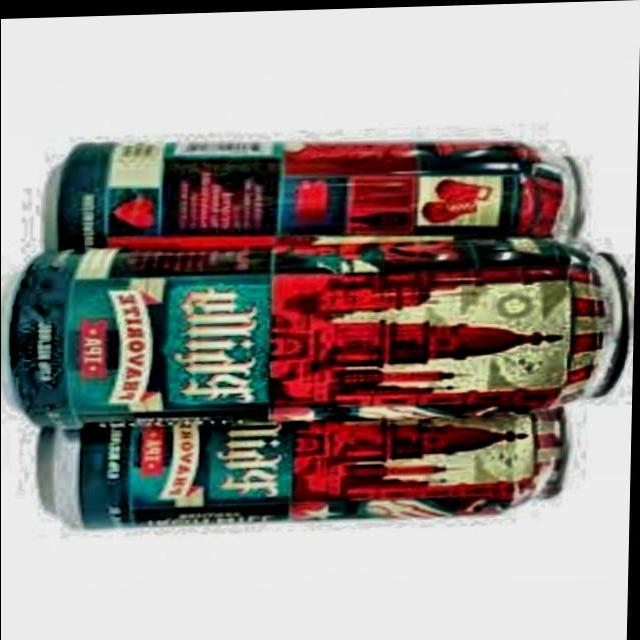Aluminum Can: (0, 229, 636, 426), (32, 380, 578, 531), (39, 118, 594, 254)
